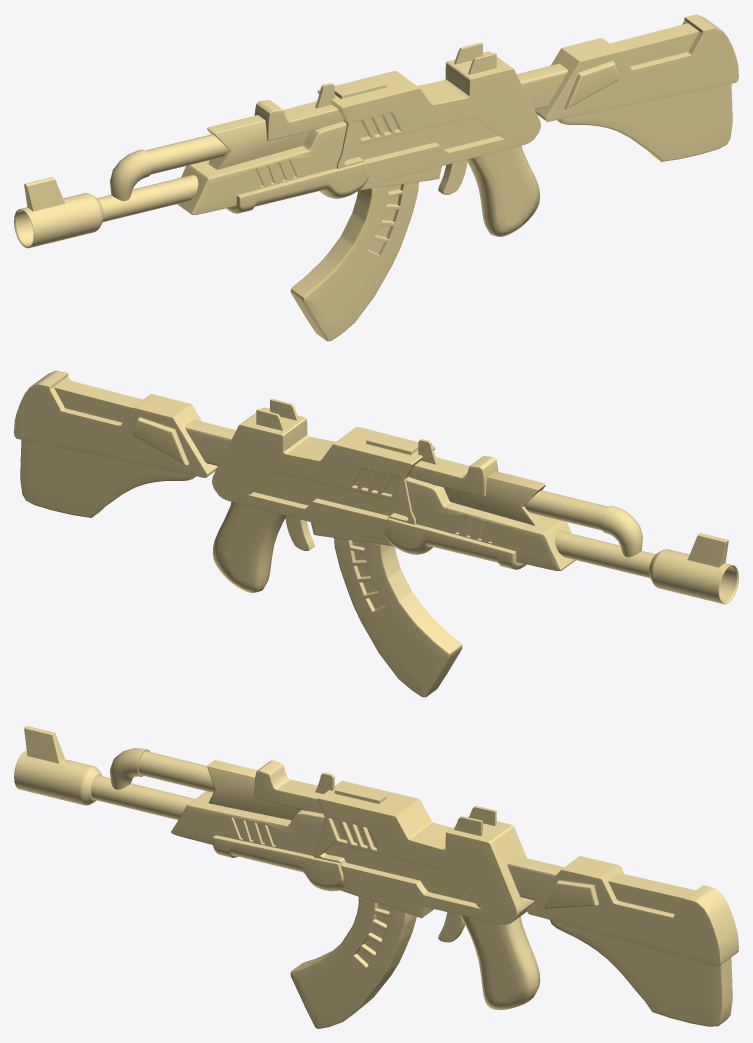
3 renders of one model, top to bottom at view 1: azimuth 30°, elevation 25°; view 2: azimuth 150°, elevation 25°; view 3: azimuth 330°, elevation 25°, orthographic.
Parts seen in each view (by area): view 1: AK1_MESH; view 2: AK1_MESH; view 3: AK1_MESH.
Part boxes in pixels (x1,y1,x2,y2): AK1_MESH: (14, 14, 738, 341); AK1_MESH: (14, 370, 738, 697); AK1_MESH: (14, 726, 738, 1028).
Size of the model in its own units: 36.73 by 12.51 by 2.47.
